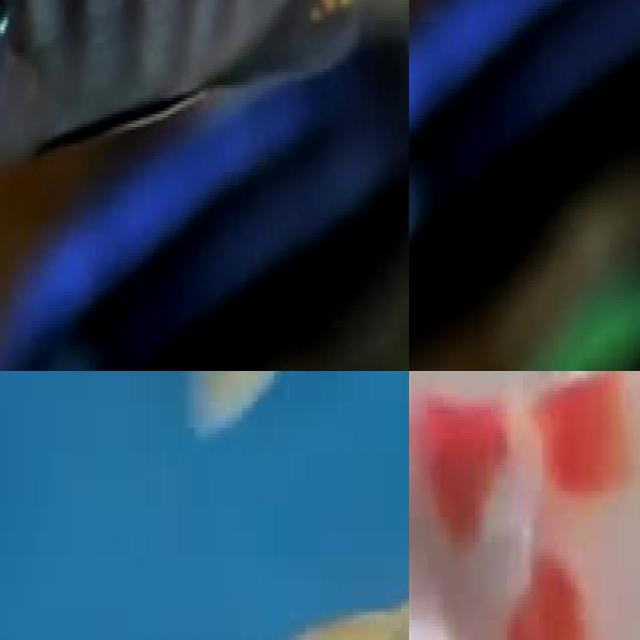fish: (0, 0, 409, 371), (409, 0, 640, 355)
